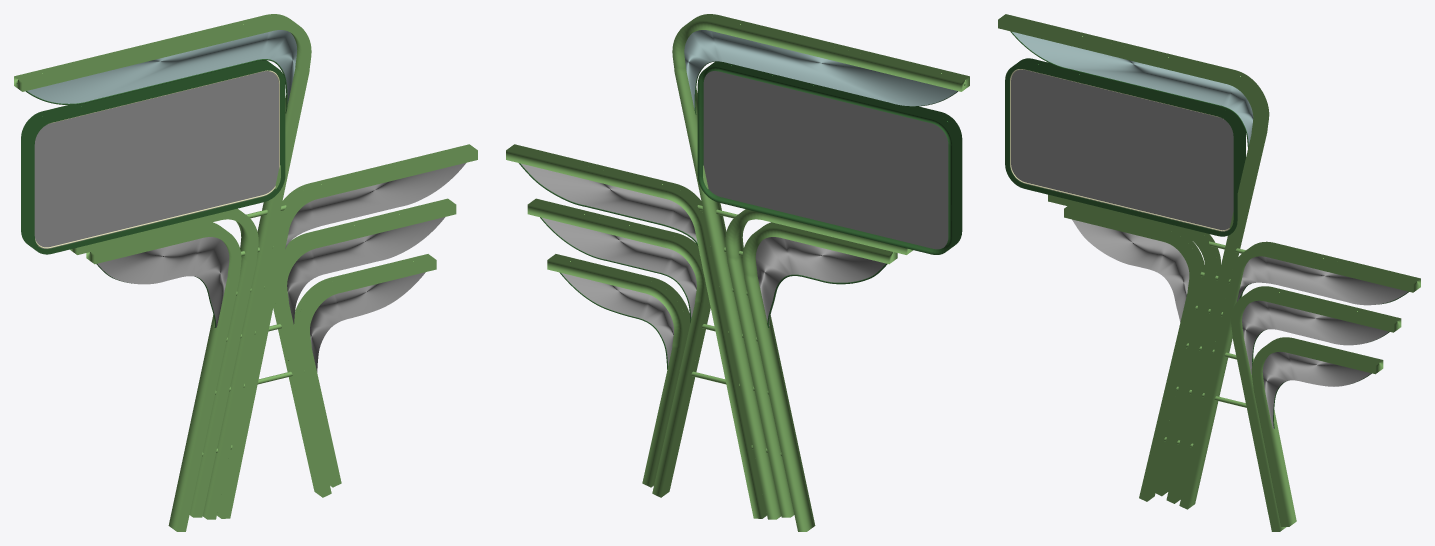
The model's file is Billboard 05.obj.
3 views of the same model, side by side, from view 1: azimuth 30°, elevation 25°; view 2: azimuth 150°, elevation 25°; view 3: azimuth 330°, elevation 25° (orthographic). The views are drawn at different scales.
Visible parts, largest first — view 1: Rectangle0, Line28, Line30, Line33, Rectangle1, Line35, Line29, Line32, Line38, Line36, Line31, Line34 (+3 smaller); view 2: Rectangle0, Line28, Line30, Line29, Line33, Rectangle1, Line35, Line32, Line38, Line36, Line31, Line34 (+1 smaller); view 3: Rectangle0, Line28, Line30, Line29, Rectangle1, Line33, Line35, Line32, Line38, Line31, Line34, Line36 (+2 smaller).
Boxes of the visible parts, box(x1,y1,x2,y2) form: Rectangle0: box(34, 71, 278, 248); Line28: box(14, 14, 311, 519); Line30: box(217, 144, 477, 518); Line33: box(86, 222, 241, 531); Rectangle1: box(21, 60, 285, 254); Line35: box(273, 198, 456, 497); Line29: box(27, 30, 297, 103); Line32: box(70, 208, 258, 517); Line38: box(294, 254, 436, 487); Line36: box(97, 237, 229, 327); Line31: box(285, 162, 466, 248); Line34: box(287, 217, 445, 324); Rectangle0: box(703, 71, 948, 249); Line28: box(672, 14, 969, 519); Line30: box(506, 144, 766, 518); Line29: box(684, 30, 957, 109); Line33: box(742, 222, 897, 531); Rectangle1: box(697, 61, 962, 254); Line35: box(527, 198, 710, 497); Line32: box(725, 209, 913, 517); Line38: box(547, 254, 690, 487); Line36: box(755, 237, 885, 325); Line31: box(521, 163, 697, 242); Line34: box(542, 218, 696, 318); Rectangle0: box(1011, 69, 1233, 231); Line28: box(998, 14, 1269, 503); Line30: box(1179, 241, 1420, 509); Line29: box(1012, 32, 1253, 145); Rectangle1: box(1005, 58, 1245, 236); Line33: box(1064, 206, 1204, 501); Line35: box(1231, 286, 1401, 531); Line32: box(1048, 194, 1220, 496); Line38: box(1251, 337, 1383, 526); Line31: box(1237, 256, 1407, 305); Line34: box(1242, 300, 1388, 374); Line36: box(1072, 219, 1189, 322).
Bounding box in the file's own units: 42.98 × 44.07 × 1.57.
